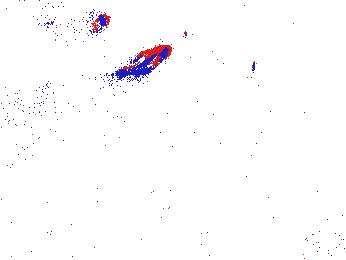X-ray fish: (37, 10, 95, 41)
red belly glassfish: (120, 44, 173, 77)
